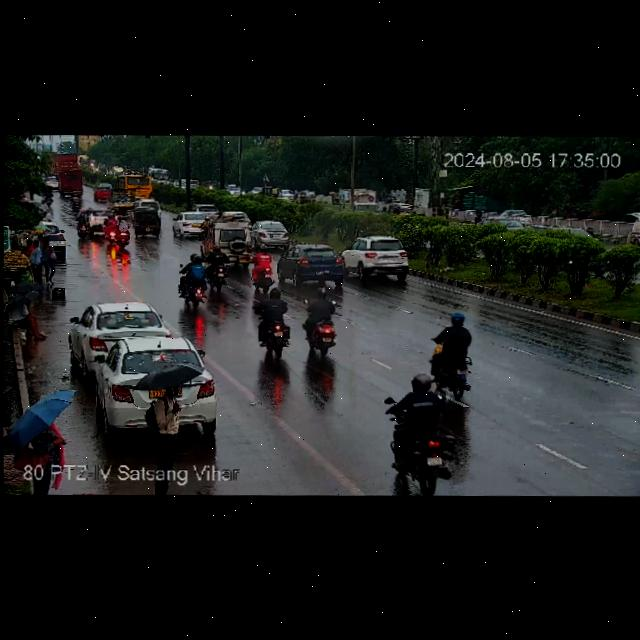bus: (115, 173, 154, 198), (146, 163, 171, 184), (78, 153, 92, 169)
car: (96, 340, 220, 430), (72, 299, 171, 360), (339, 235, 413, 284), (276, 242, 346, 287), (209, 222, 252, 260), (23, 223, 68, 258), (246, 221, 291, 251), (173, 211, 215, 239), (475, 215, 527, 232), (218, 210, 251, 224), (192, 203, 222, 215), (296, 189, 319, 203), (389, 202, 413, 215), (92, 187, 111, 202)
motorcycle: (382, 374, 446, 483), (428, 311, 472, 384), (303, 286, 340, 360), (253, 290, 290, 340), (178, 252, 209, 308), (248, 252, 276, 292), (208, 247, 234, 290), (115, 216, 135, 250), (74, 209, 91, 239), (106, 214, 119, 245), (71, 195, 82, 213), (143, 250, 144, 251)
person: (12, 424, 70, 495), (139, 386, 185, 471), (3, 279, 48, 340), (34, 243, 58, 284), (27, 243, 49, 284)
truck: (335, 187, 380, 215), (130, 200, 162, 236), (41, 149, 79, 178), (59, 168, 84, 195)
